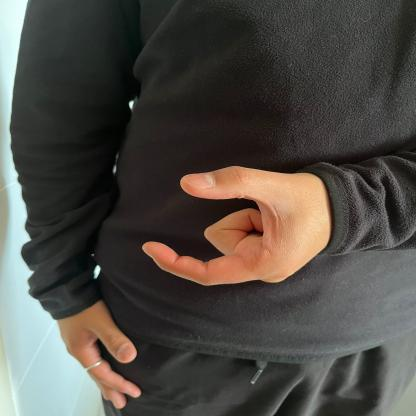G: (137, 157, 334, 288)
